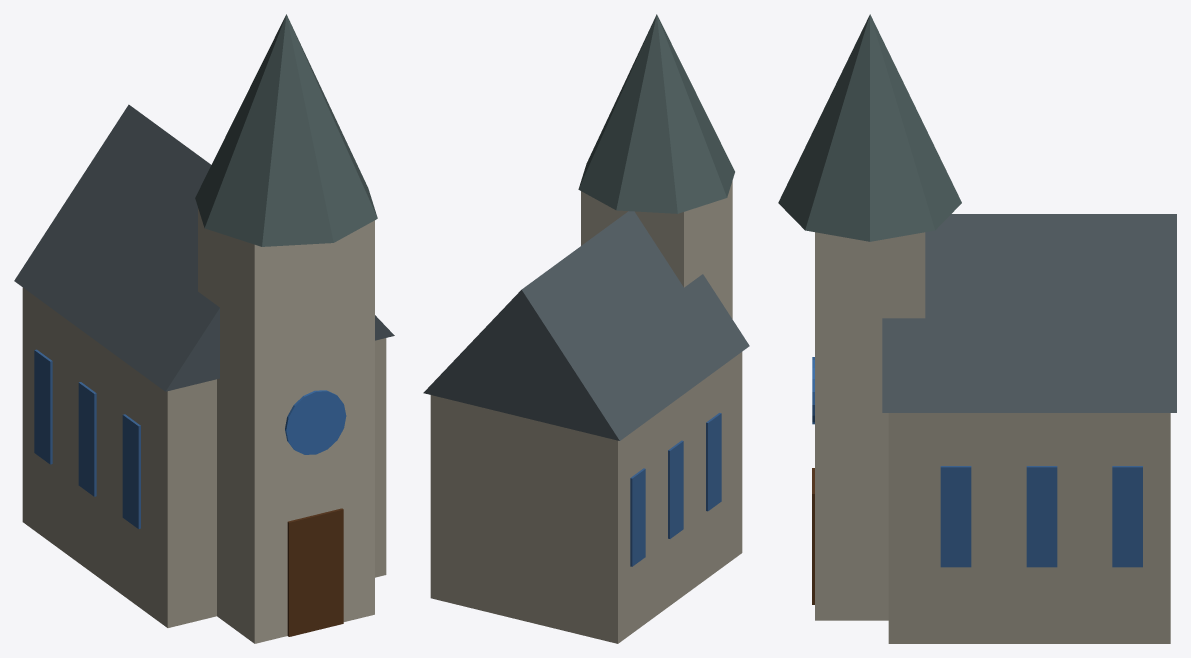
The model's file is katedra.glb.
3 renders of one model, left to right at view 1: azimuth 30°, elevation 25°; view 2: azimuth 150°, elevation 25°; view 3: azimuth 270°, elevation 25°, orthographic. The views are drawn at different scales.
Visible parts, largest first — view 1: katedra; view 2: katedra; view 3: katedra.
Part boxes in pixels (bbox=[...]): katedra: bbox=[14, 14, 394, 643]; katedra: bbox=[423, 14, 749, 643]; katedra: bbox=[778, 14, 1176, 643].
Bounding box in the file's own units: 4.2 × 10.4 × 6.5.
